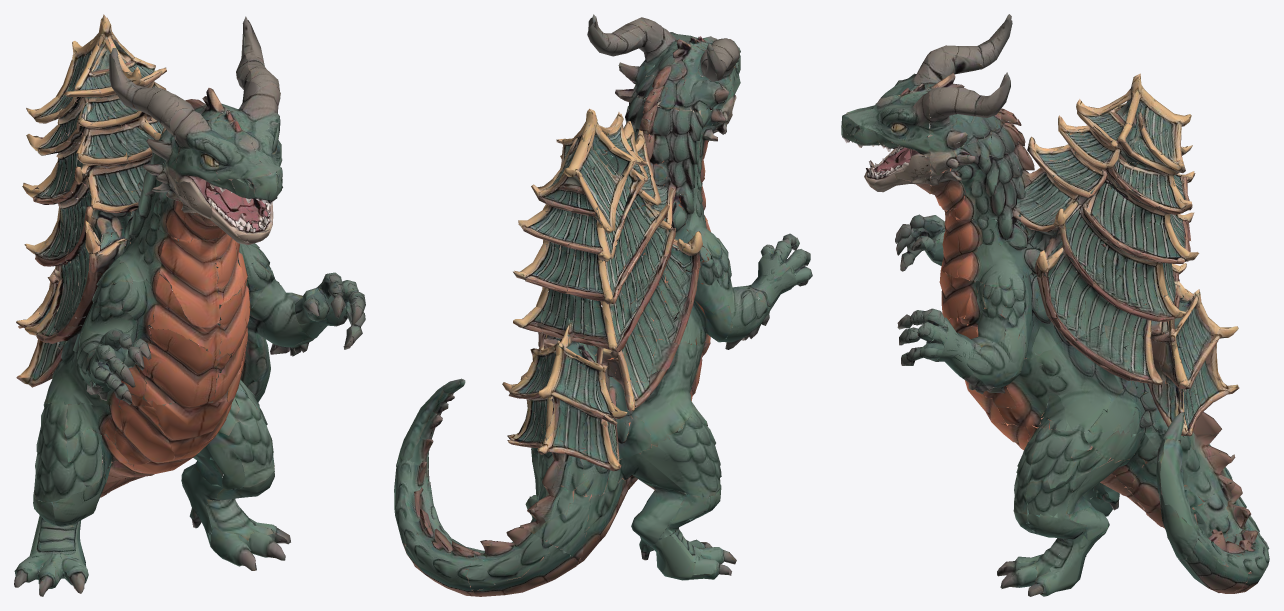
3 views of the same model, side by side, from view 1: azimuth 30°, elevation 25°; view 2: azimuth 150°, elevation 25°; view 3: azimuth 270°, elevation 25° (orthographic). The views are drawn at different scales.
Parts seen in each view (by area): view 1: Mesh_0; view 2: Mesh_0; view 3: Mesh_0.
Part boxes in pixels (x1,y1,x2,y2): Mesh_0: [14, 14, 365, 596]; Mesh_0: [394, 14, 812, 596]; Mesh_0: [841, 14, 1269, 596].
Size of the model in its own units: 1.14 by 1.91 by 1.46.
Materials: 1 (1 with a texture image).
